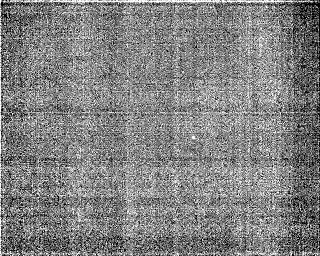AIRPLANE: (190, 133, 198, 141)
